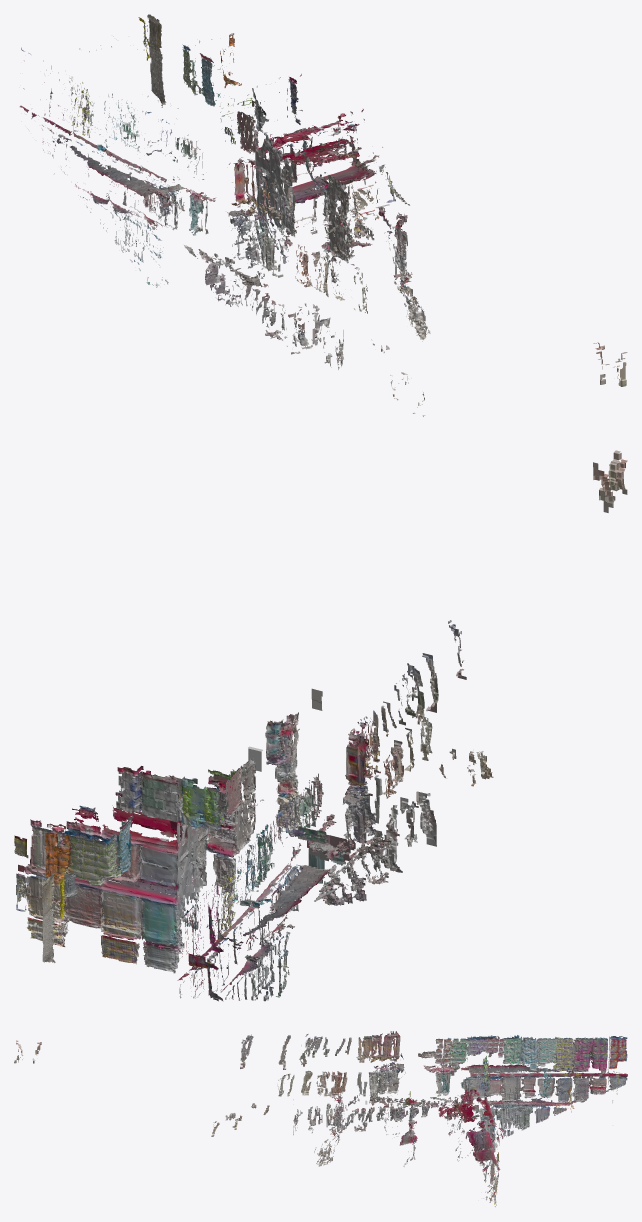
The model's file is surfaces-1.glb.
3 renders of one model, top to bottom at view 1: azimuth 30°, elevation 25°; view 2: azimuth 150°, elevation 25°; view 3: azimuth 270°, elevation 25°, orthographic. The views are drawn at different scales.
Parts seen in each view (by area): view 1: obj-1-1377, obj-1-623, obj-1-450, obj-1-351, obj-1-1412, obj-1-1262, obj-1-1211, obj-1-349, obj-1-430, obj-1-1216, obj-1-1359, obj-1-586 (+4 smaller); view 2: obj-1-1377, obj-1-450, obj-1-1220, obj-1-623, obj-1-411, obj-1-1436, obj-1-586, obj-1-1321, obj-1-351, obj-1-1262, obj-1-349, obj-1-1211 (+13 smaller); view 3: obj-1-1124, obj-1-450, obj-1-1262, obj-1-1177, obj-1-1453, obj-1-351, obj-1-1199, obj-1-430, obj-1-1436, obj-1-1211, obj-1-1359, obj-1-368 (+17 smaller).
Boxes of the visible parts, x1=… form: obj-1-1377: x1=252, y1=88, x2=336, y2=263; obj-1-623: x1=322, y1=172, x2=372, y2=285; obj-1-450: x1=38, y1=115, x2=164, y2=218; obj-1-351: x1=256, y1=155, x2=379, y2=206; obj-1-1412: x1=147, y1=14, x2=165, y2=107; obj-1-1262: x1=229, y1=157, x2=338, y2=255; obj-1-1211: x1=296, y1=303, x2=343, y2=369; obj-1-349: x1=253, y1=129, x2=355, y2=164; obj-1-430: x1=244, y1=284, x2=300, y2=354; obj-1-1216: x1=230, y1=216, x2=273, y2=268; obj-1-1359: x1=295, y1=244, x2=328, y2=296; obj-1-586: x1=265, y1=125, x2=351, y2=218; obj-1-1377: x1=141, y1=776, x2=207, y2=929; obj-1-450: x1=193, y1=866, x2=328, y2=984; obj-1-1220: x1=117, y1=770, x2=219, y2=860; obj-1-623: x1=207, y1=758, x2=256, y2=892; obj-1-411: x1=140, y1=898, x2=184, y2=969; obj-1-1436: x1=422, y1=450, x2=627, y2=712; obj-1-586: x1=120, y1=796, x2=206, y2=886; obj-1-1321: x1=64, y1=879, x2=178, y2=940; obj-1-351: x1=18, y1=864, x2=182, y2=905; obj-1-1262: x1=345, y1=663, x2=424, y2=788; obj-1-349: x1=101, y1=805, x2=180, y2=853; obj-1-1211: x1=383, y1=791, x2=436, y2=858; obj-1-1124: x1=552, y1=1037, x2=625, y2=1105; obj-1-450: x1=468, y1=1062, x2=608, y2=1106; obj-1-1262: x1=299, y1=1031, x2=400, y2=1066; obj-1-1177: x1=445, y1=1036, x2=542, y2=1064; obj-1-1453: x1=489, y1=1078, x2=573, y2=1113; obj-1-351: x1=465, y1=1127, x2=500, y2=1170; obj-1-1199: x1=607, y1=1036, x2=627, y2=1089; obj-1-430: x1=340, y1=1105, x2=395, y2=1131; obj-1-1436: x1=14, y1=1034, x2=290, y2=1069; obj-1-1211: x1=293, y1=1103, x2=343, y2=1135; obj-1-1359: x1=316, y1=1071, x2=347, y2=1096; obj-1-368: x1=499, y1=1076, x2=521, y2=1102.
Bounding box in the file's own units: 12.06 × 8.72 × 37.04.
